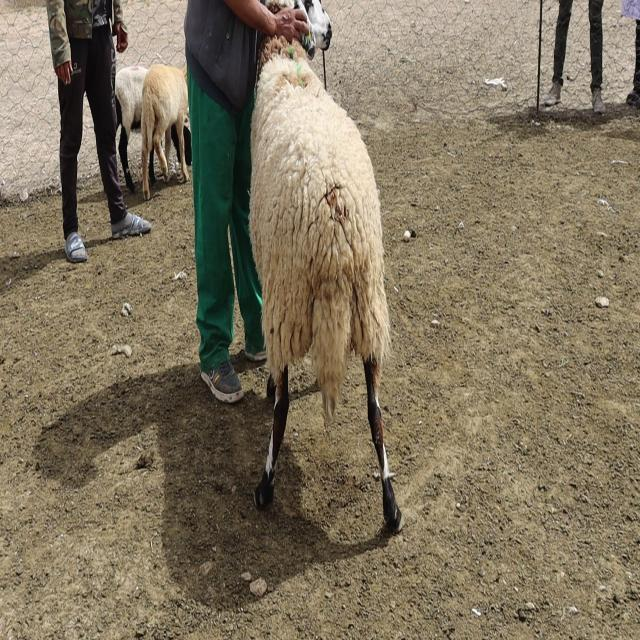Score_4: (249, 38, 403, 532)
